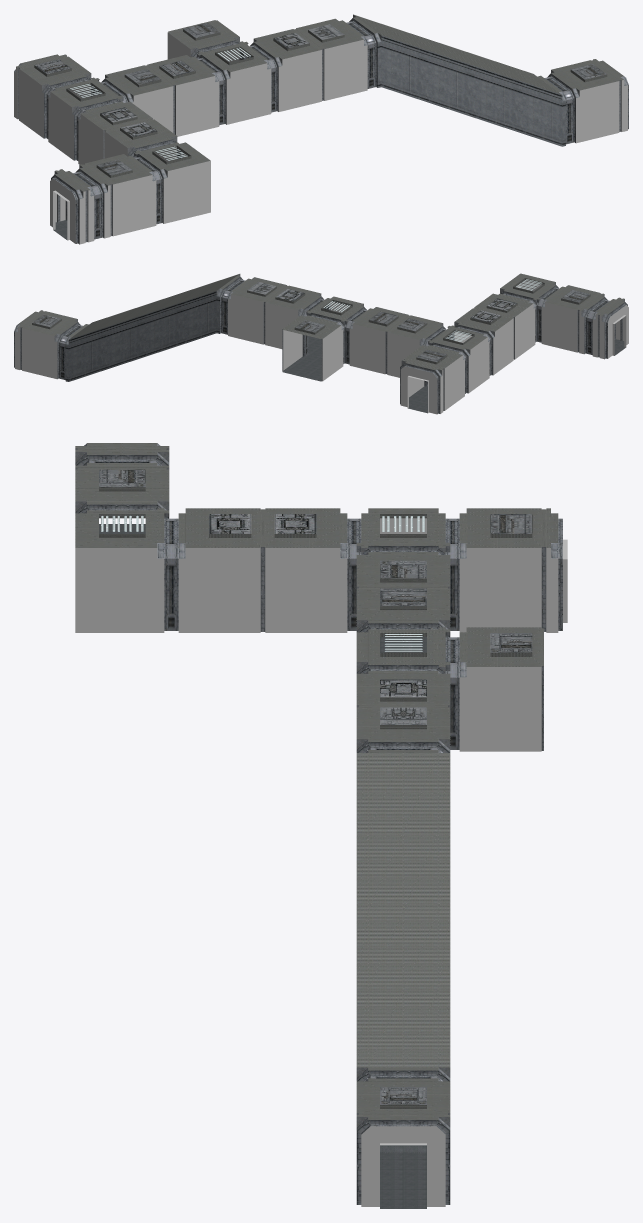
Rendered from poi_all_impl_bunker_warren_s01_r62_hall62_mesh_r62.fbx.
3 views of the same model, one above another, from view 1: azimuth 30°, elevation 25°; view 2: azimuth 150°, elevation 25°; view 3: azimuth 270°, elevation 25° (orthographic). The views are drawn at different scales.
Parts seen in each view (by area): view 1: mesh_node; view 2: mesh_node; view 3: mesh_node.
Part boxes in pixels (box(x1,y1,x2,y2)): mesh_node: box(14, 14, 628, 244); mesh_node: box(14, 273, 628, 414); mesh_node: box(75, 443, 567, 1208).
Bounding box in the file's own units: 52 × 12.2 × 21.
